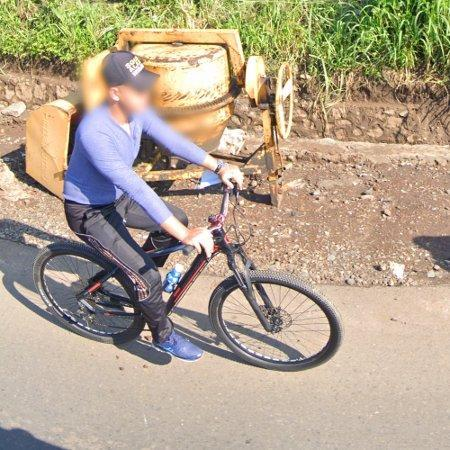bicycles: (210, 190, 342, 372), (33, 243, 145, 345), (167, 254, 210, 315)
